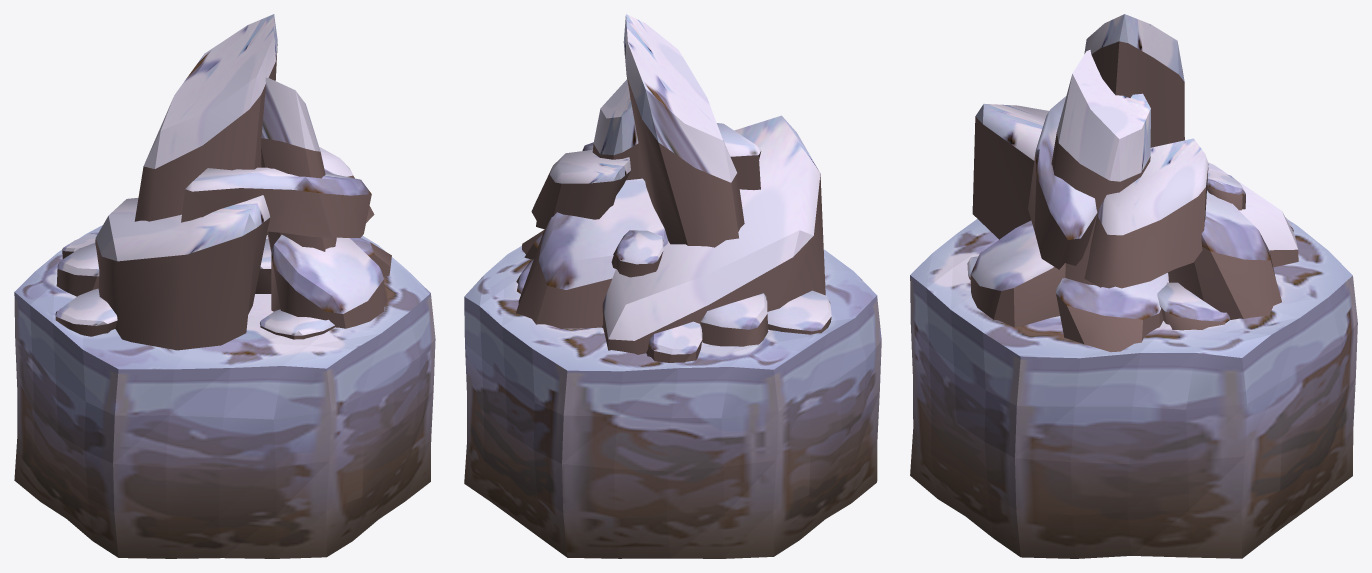
The model's file is tile_snow_mountain.fbx.
3 renders of one model, left to right at view 1: azimuth 30°, elevation 25°; view 2: azimuth 150°, elevation 25°; view 3: azimuth 270°, elevation 25°, orthographic. The views are drawn at different scales.
Parts seen in each view (by area): view 1: Cylinder002, Cylinder003; view 2: Cylinder002, Cylinder003; view 3: Cylinder002, Cylinder003.
Part boxes in pixels (x1=…): Cylinder002: x1=14, y1=225, x2=435, y2=558; Cylinder003: x1=55, y1=14, x2=391, y2=350; Cylinder002: x1=464, y1=246, x2=881, y2=558; Cylinder003: x1=516, y1=14, x2=831, y2=362; Cylinder002: x1=910, y1=219, x2=1357, y2=558; Cylinder003: x1=967, y1=14, x2=1298, y2=352.
Size of the model in its own units: 4.36 by 4.72 by 5.7.
Materials: 1 (1 with a texture image).
